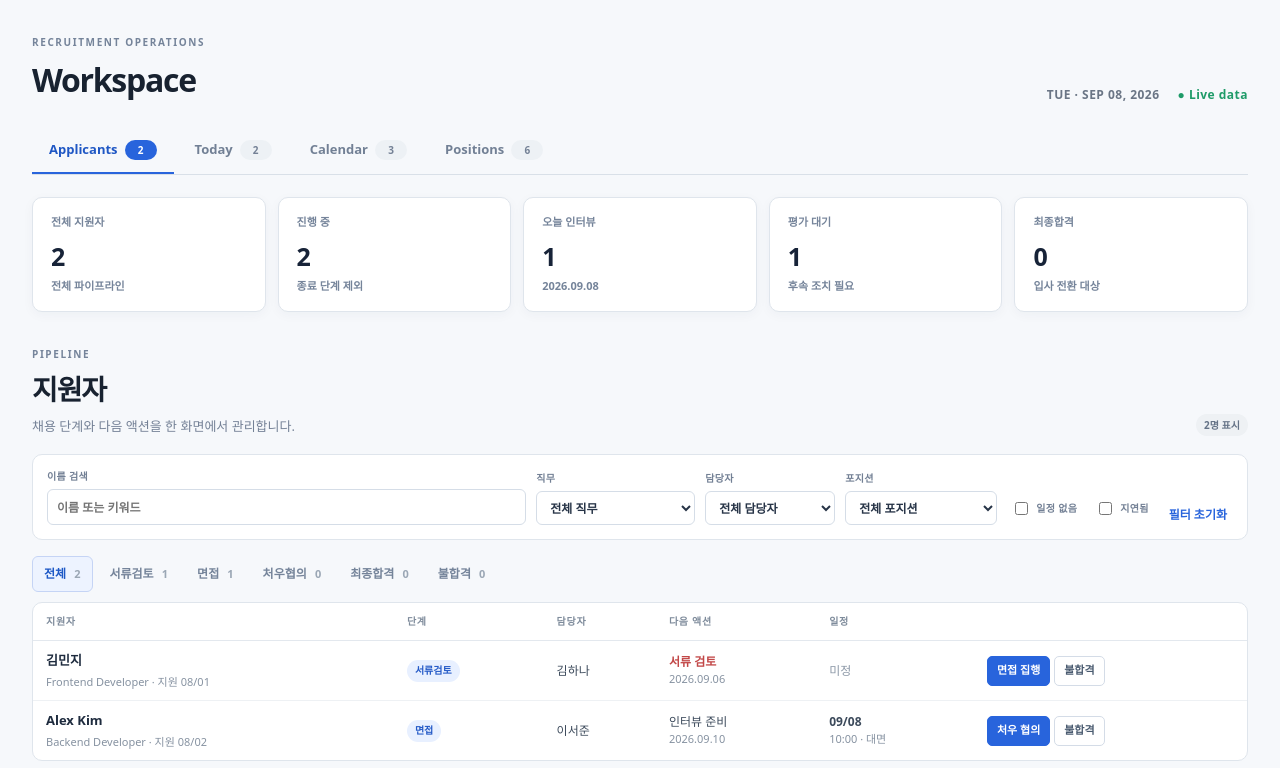
keeps optimistic rollback scoped to the failed applicant
Click the button with aria-label "면접 집행 · 김민지 · applicant-001".
click(1019, 670)  # box [987,656,1050,686]
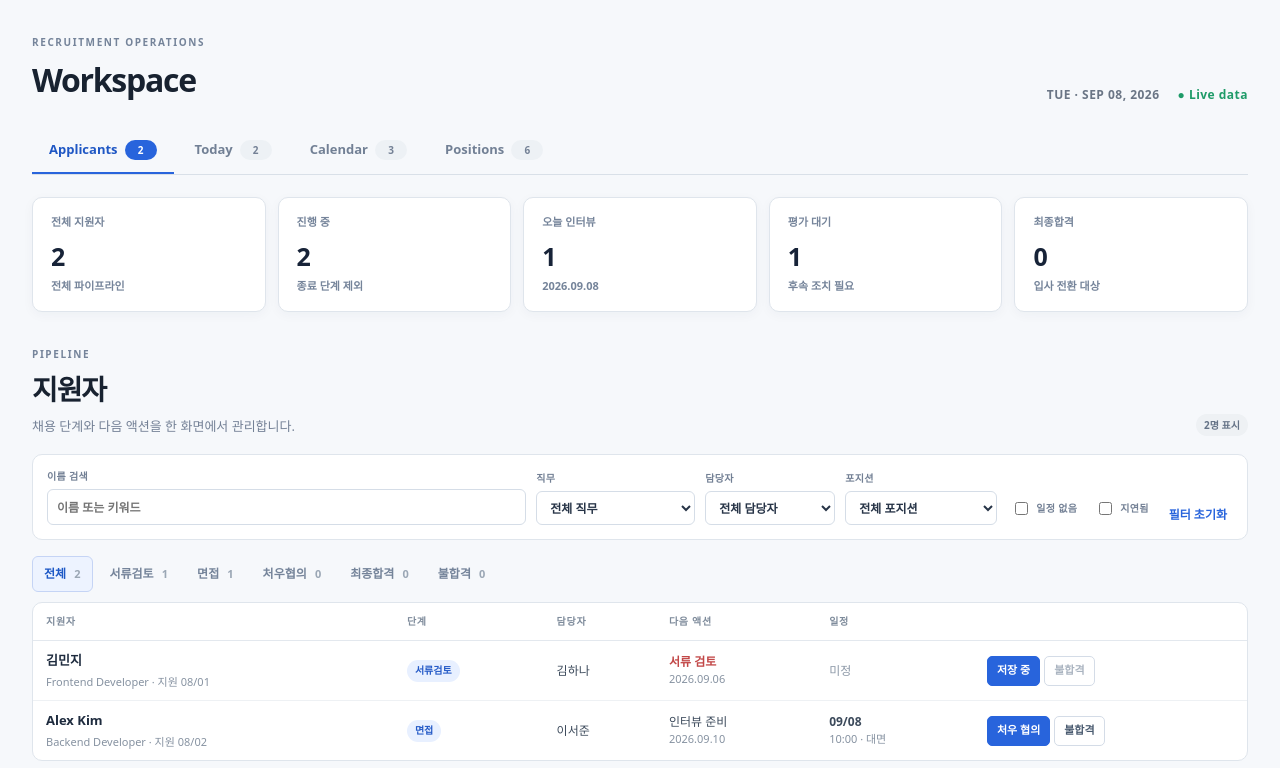
Click the button with aria-label "처우 협의 · Alex Kim · applicant-002".
click(1019, 730)  # box [987,716,1050,746]
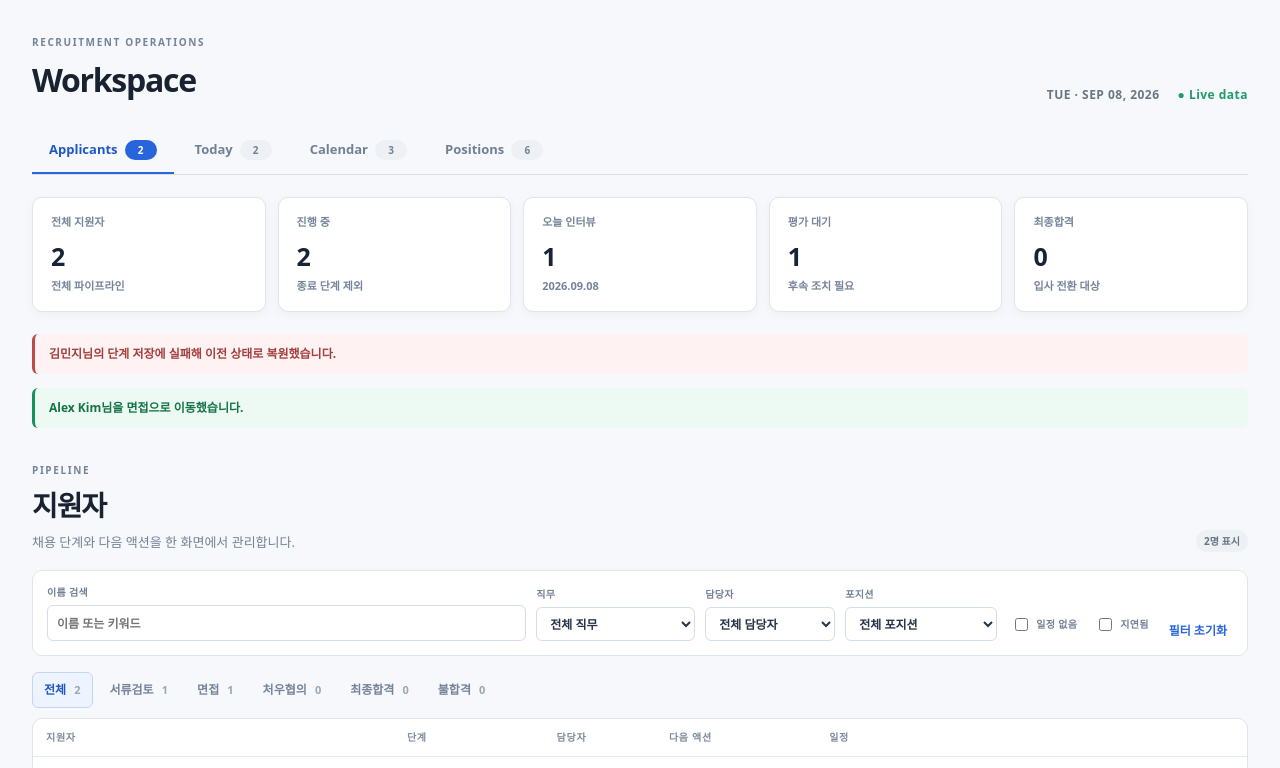
expect the 1st message shows "이전 상태로 복원": met, box [49,344,336,362]
expect the 2nd message shows "Alex Kim": met, box [49,398,243,416]
